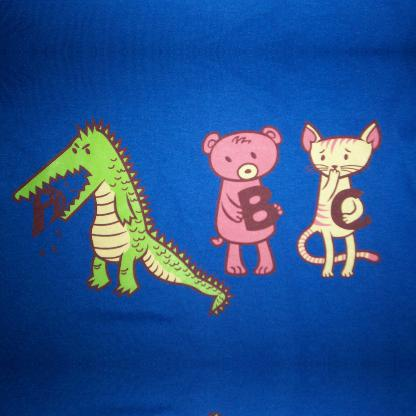Cat: (294, 120, 380, 278)
